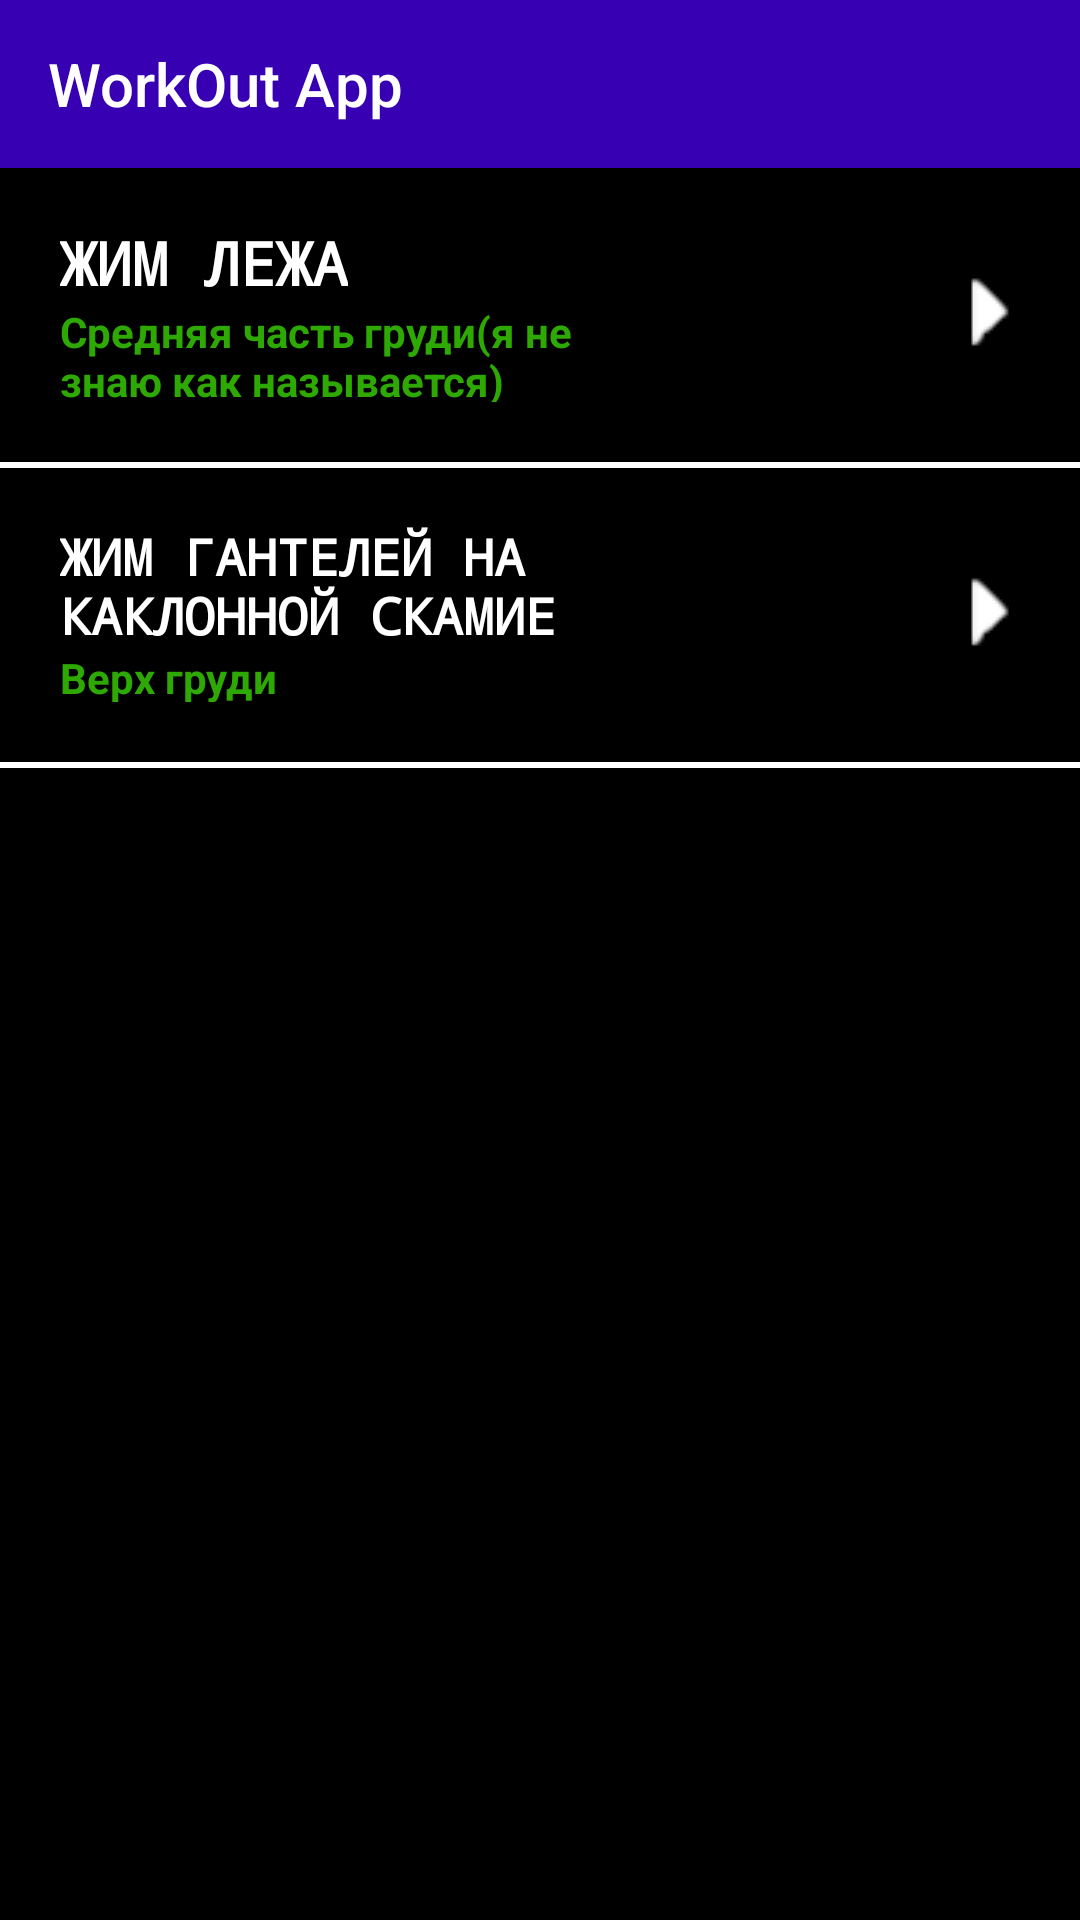

Icons on this 1080*1920 Android screen, each with the point to tap as [x,y]:
right arrow: [990,312], [990,612]
